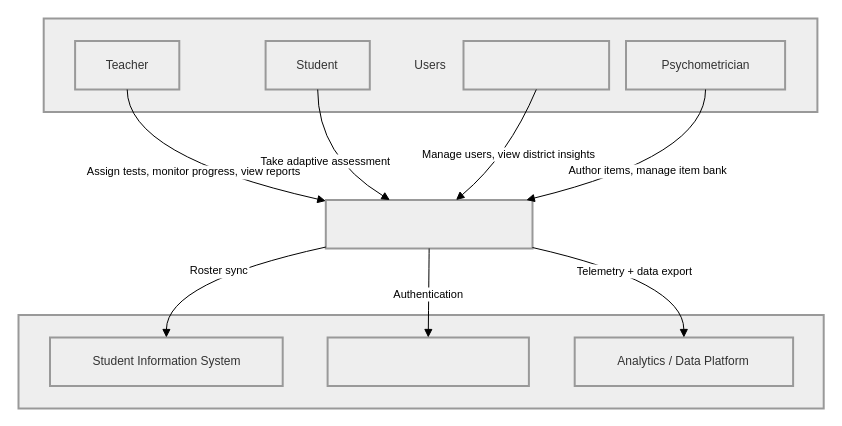
This 842x426 diagram has some shape labels left out. The shapes that lost their labels are listed below. From the top down, each one's centre as x and y in pixels, then its label:
point 536,65: District Admin
point 428,223: CogAT Next Gen System
point 427,361: Identity Provider / SSO
